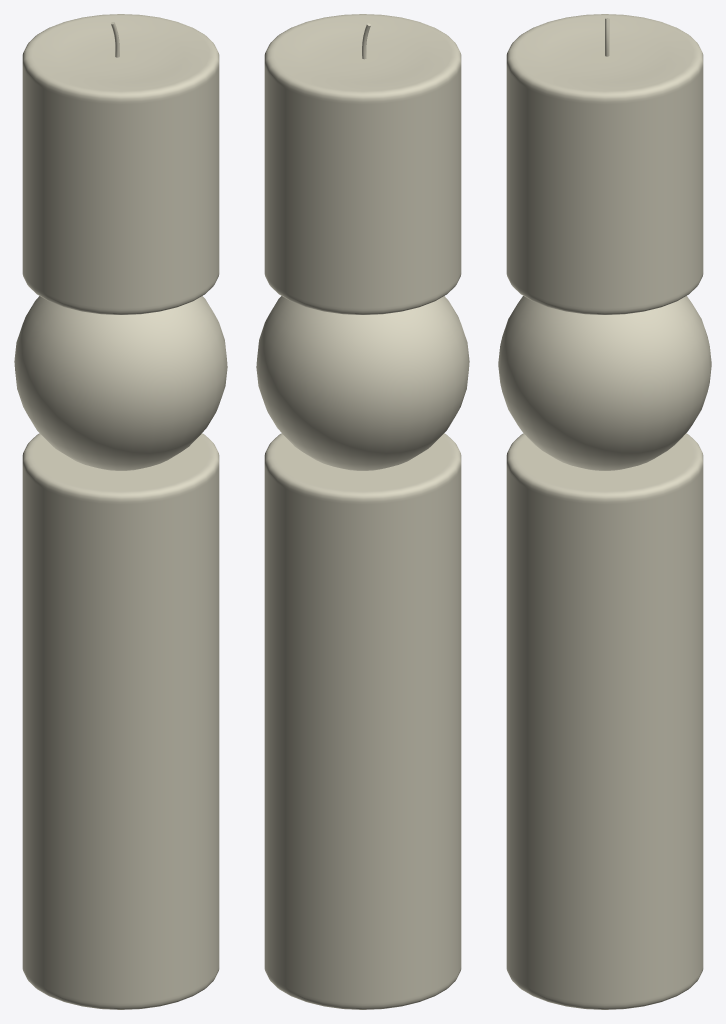
File: bougie1_t.fbx
3 renders of one model, left to right at view 1: azimuth 30°, elevation 25°; view 2: azimuth 150°, elevation 25°; view 3: azimuth 270°, elevation 25°, orthographic.
Visible parts, largest first — view 1: Decoration 14; view 2: Decoration 14; view 3: Decoration 14.
Boxes of the visible parts, box(x1,y1,x2,y2) form: Decoration 14: box(14, 14, 227, 1009); Decoration 14: box(256, 14, 469, 1009); Decoration 14: box(498, 14, 711, 1009).
Bounding box in the file's own units: 10.63 × 52.06 × 10.63.
